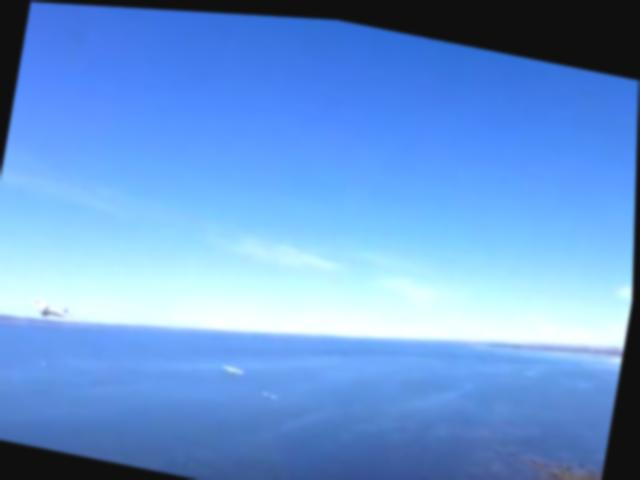uav: (30, 293, 77, 323), (221, 360, 247, 374)
